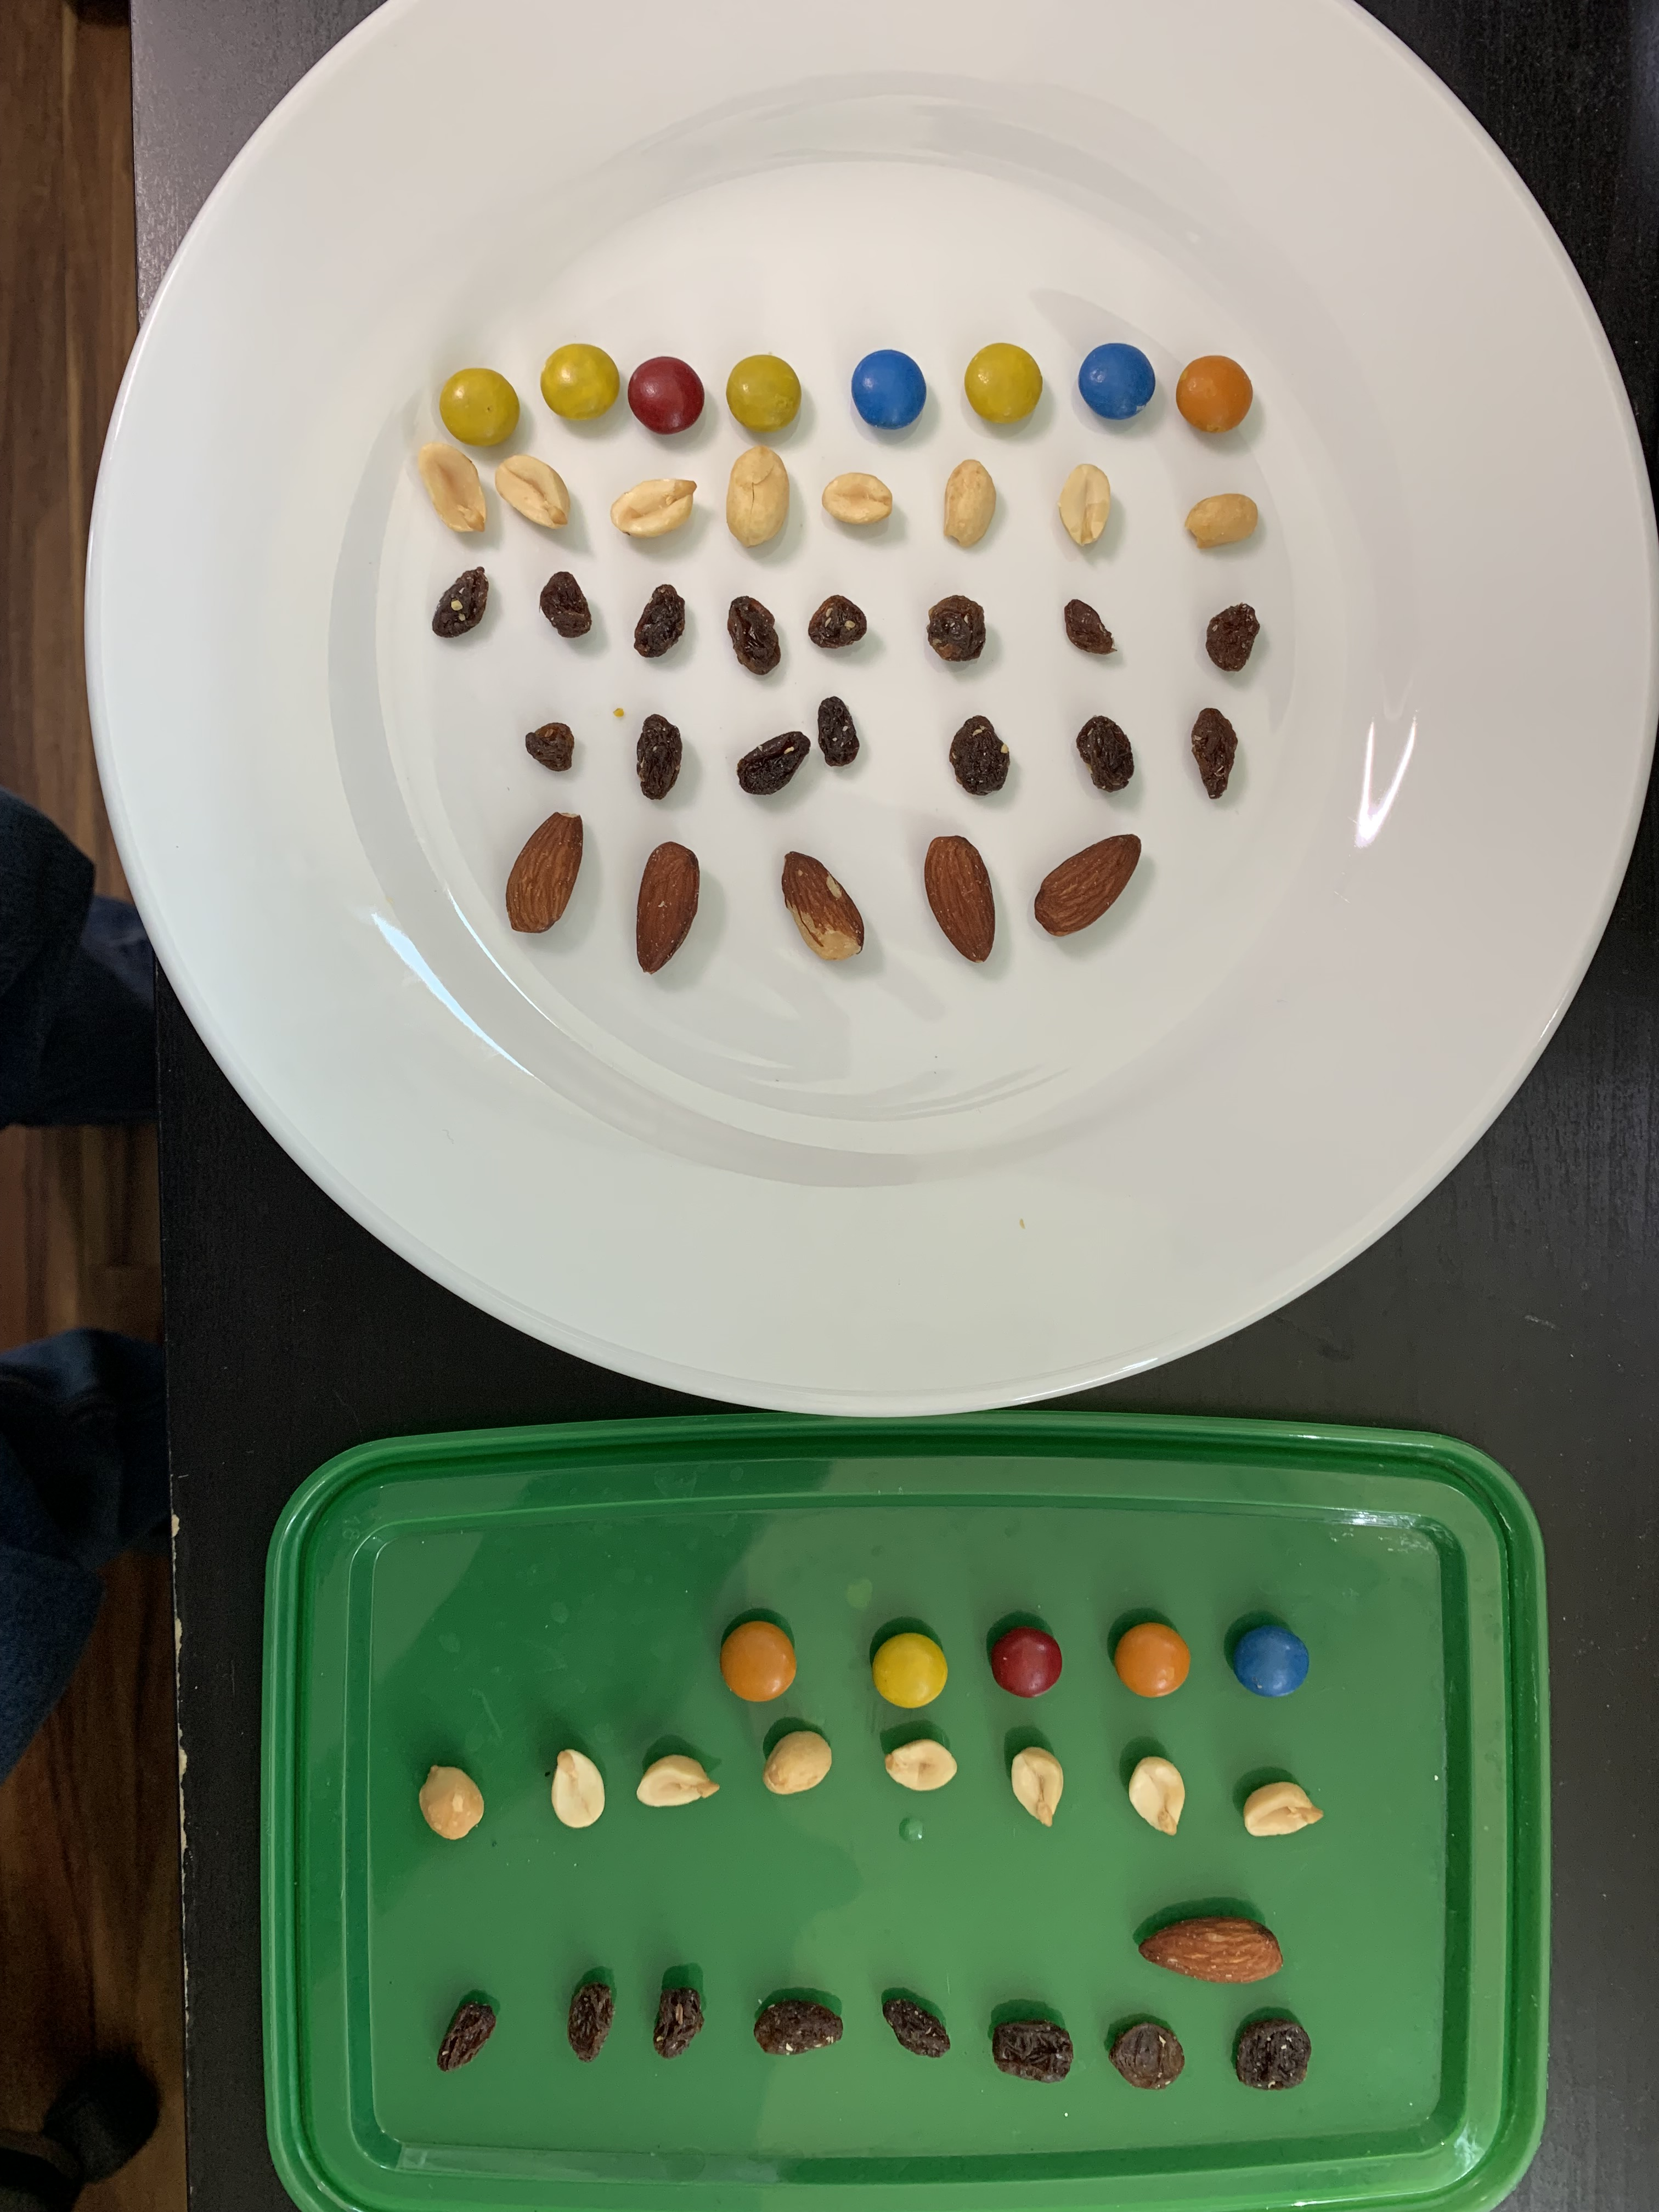almond: (1033, 833, 1141, 937), (504, 812, 587, 934), (1138, 1916, 1284, 1984), (781, 852, 866, 961), (924, 836, 995, 965), (636, 841, 699, 974)
mm: (964, 341, 1044, 423), (720, 1620, 796, 1702), (725, 354, 803, 432), (439, 368, 519, 444), (540, 343, 620, 420), (627, 357, 706, 434), (850, 348, 927, 427), (1176, 355, 1253, 434), (1079, 343, 1155, 420), (1114, 1622, 1190, 1698), (873, 1632, 948, 1709), (1236, 1625, 1310, 1696), (990, 1625, 1061, 1696)
peanut: (725, 446, 791, 549), (416, 442, 488, 533), (495, 455, 572, 531), (418, 1763, 488, 1841), (610, 477, 697, 538), (943, 458, 997, 549), (762, 1730, 833, 1796), (1241, 1782, 1324, 1838), (549, 1749, 606, 1829), (1127, 1756, 1185, 1836), (636, 1754, 720, 1808), (1058, 463, 1112, 545), (1011, 1745, 1065, 1827), (884, 1738, 958, 1791), (821, 474, 894, 526), (1185, 493, 1258, 545)
raisin: (1237, 2020, 1314, 2090), (1108, 2022, 1187, 2090), (993, 2019, 1073, 2083), (948, 714, 1011, 796), (735, 732, 812, 796), (753, 2001, 843, 2055), (1075, 714, 1136, 794), (1190, 709, 1239, 801), (882, 1998, 951, 2059), (728, 596, 781, 676), (636, 712, 683, 801), (927, 594, 988, 662), (437, 2001, 497, 2071), (432, 566, 490, 637), (633, 583, 687, 658), (568, 1982, 615, 2062), (1206, 603, 1260, 672), (653, 1987, 704, 2060), (538, 571, 592, 639), (807, 594, 868, 648), (1065, 597, 1119, 657), (817, 697, 861, 768), (523, 723, 577, 772)
